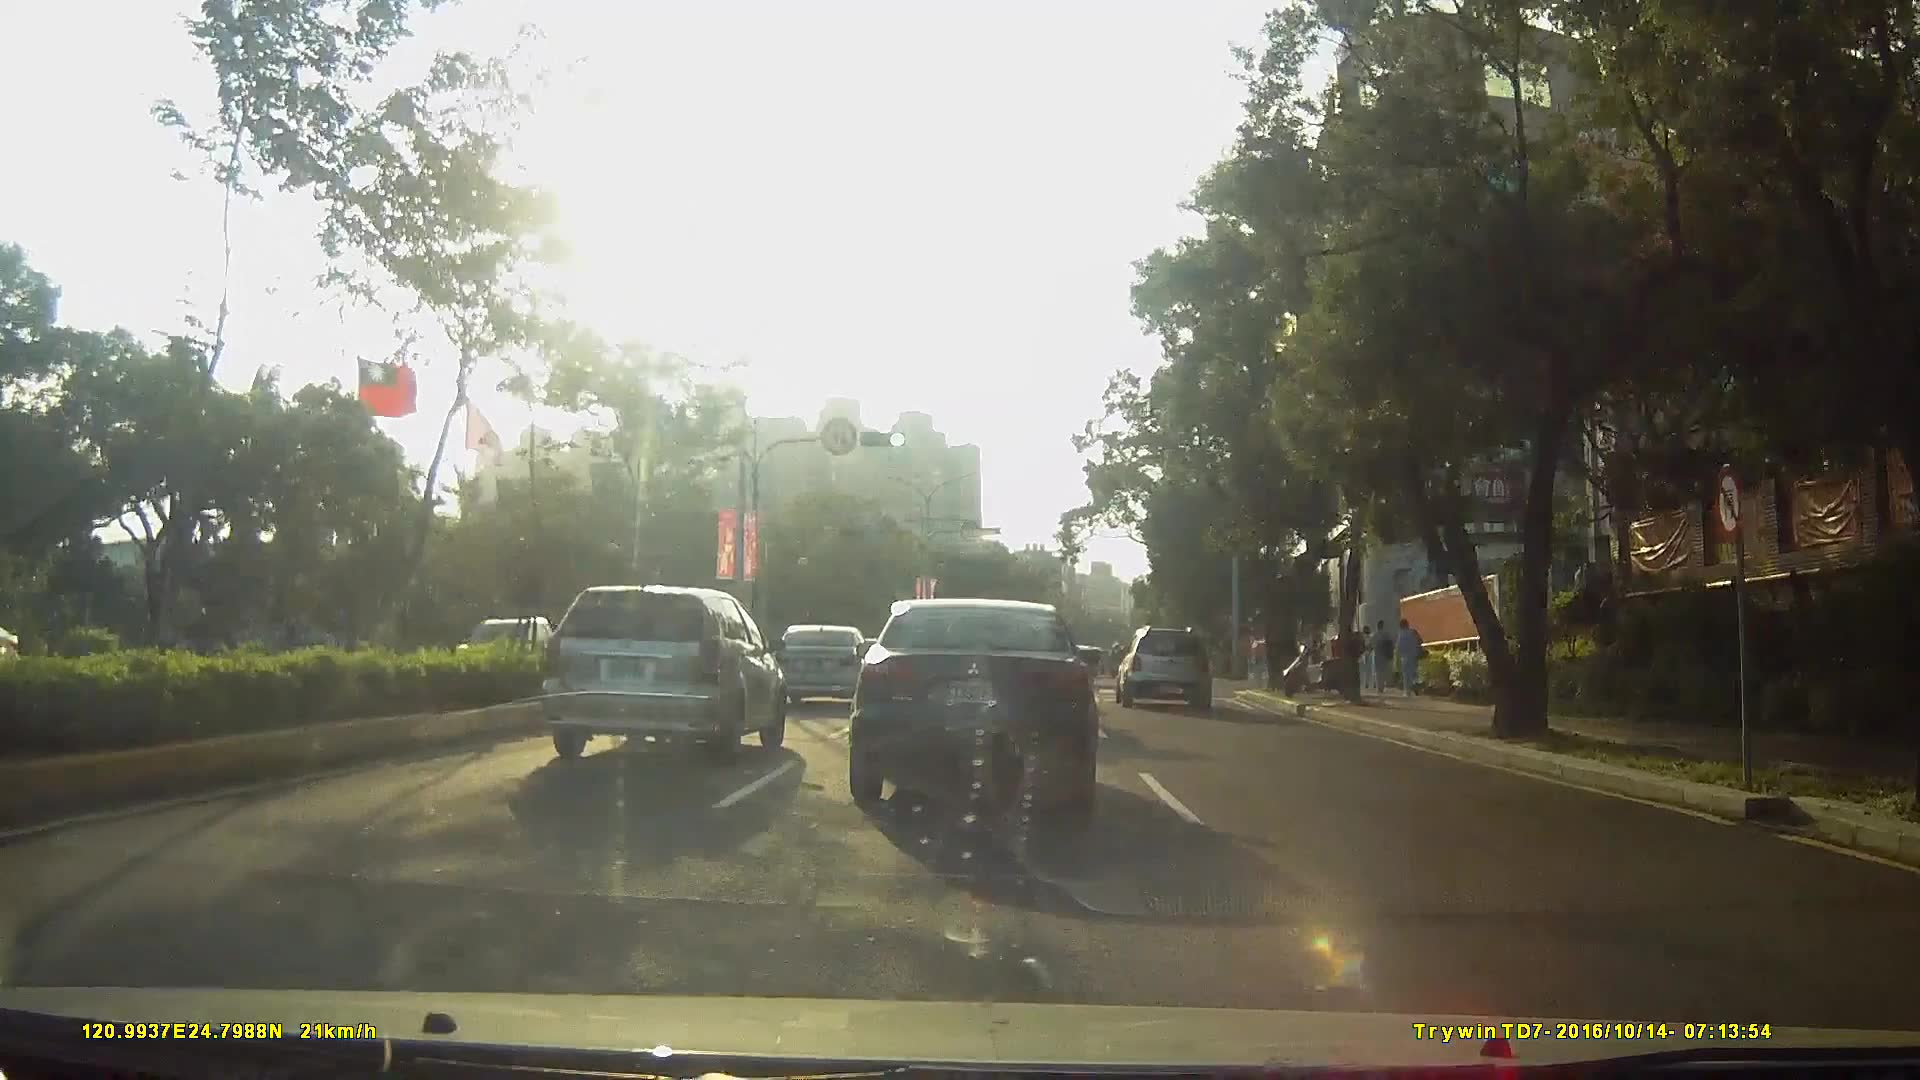pedestrian: (1395, 616, 1428, 701), (1371, 617, 1398, 697)
vehicle: (844, 593, 1096, 813), (535, 581, 786, 761), (1112, 622, 1222, 710), (774, 619, 877, 710)
